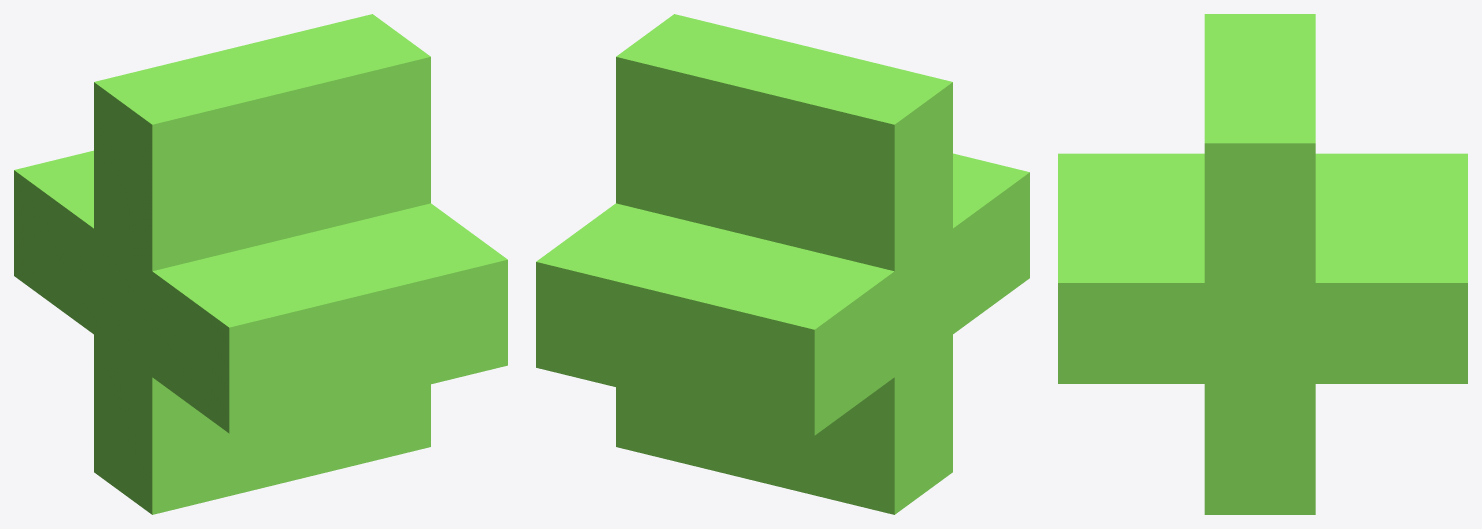
The model's file is roto.fbx.
The picture shows the model from 3 angles, left to right: view 1: azimuth 30°, elevation 25°; view 2: azimuth 150°, elevation 25°; view 3: azimuth 270°, elevation 25°; orthographic projection. The views are drawn at different scales.
Visible parts, largest first — view 1: Group1; view 2: Group1; view 3: Group1.
Part boxes in pixels (x1,y1,x2,y2): Group1: (14, 14, 507, 514); Group1: (536, 14, 1029, 514); Group1: (1058, 14, 1467, 514).
Size of the model in its own units: 211 by 282 by 282.
